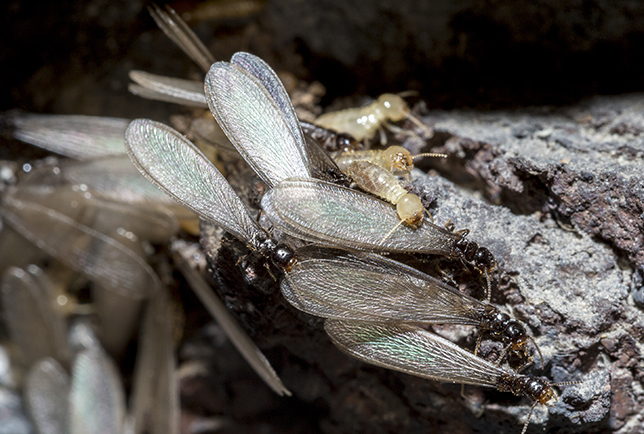flying termite: (116, 111, 300, 287)
